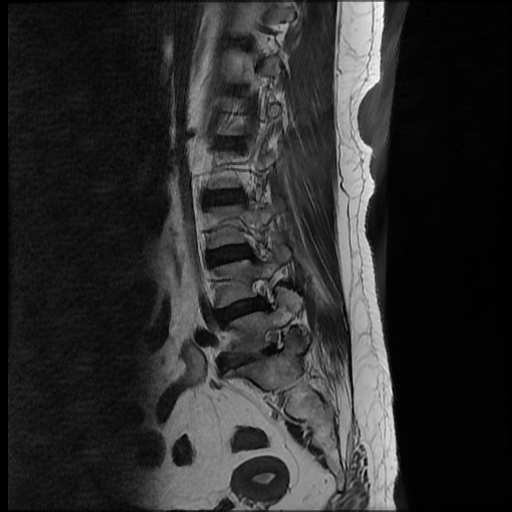RFS1: (245, 272, 287, 315), (257, 322, 297, 362)
